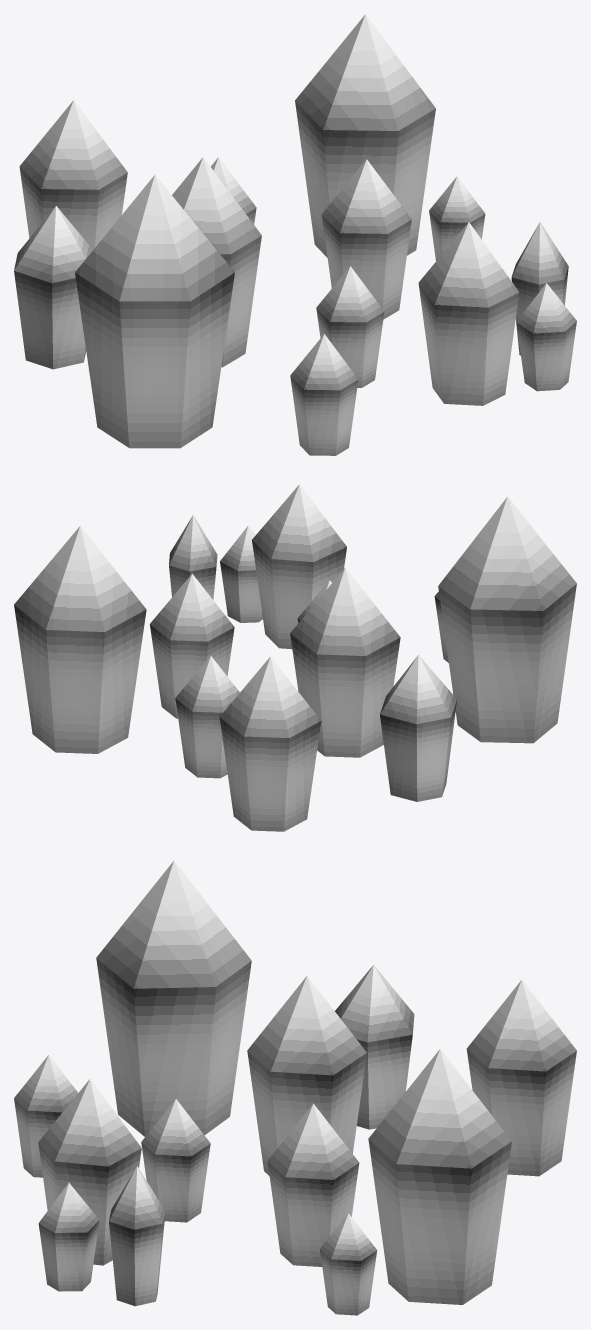
The model's file is crystals.obj.
The picture shows the model from 3 angles, top to bottom: view 1: azimuth 30°, elevation 25°; view 2: azimuth 150°, elevation 25°; view 3: azimuth 270°, elevation 25°; orthographic projection. The views are drawn at different scales.
Visible parts, largest first — view 1: Cube.005_Cube.008, Cube.006_Cube.009, Cube.002_Cube.005, Cube.009_Cube.012, Cube_Cube.001, Cube.008_Cube.011, Cube.004_Cube.007, Cube.012_Cube.015, Cube.011_Cube.014, Cube.001_Cube.004, Cube.003_Cube.006, Cube.007_Cube.010 (+1 smaller); view 2: Cube.005_Cube.008, Cube.006_Cube.009, Cube.004_Cube.007, Cube.009_Cube.012, Cube.002_Cube.005, Cube_Cube.001, Cube.008_Cube.011, Cube.010_Cube.013, Cube.001_Cube.004, Cube.003_Cube.006; view 3: Cube.005_Cube.008, Cube.006_Cube.009, Cube.009_Cube.012, Cube.004_Cube.007, Cube.008_Cube.011, Cube.002_Cube.005, Cube_Cube.001, Cube.003_Cube.006, Cube.011_Cube.014, Cube.001_Cube.004, Cube.007_Cube.010, Cube.012_Cube.015.
Boxes of the visible parts, <box> form: Cube.005_Cube.008: <box>75,175,234,448</box>; Cube.006_Cube.009: <box>295,14,435,257</box>; Cube.002_Cube.005: <box>418,222,519,405</box>; Cube.009_Cube.012: <box>19,100,127,249</box>; Cube_Cube.001: <box>14,206,92,369</box>; Cube.008_Cube.011: <box>321,159,411,319</box>; Cube.004_Cube.007: <box>172,157,261,367</box>; Cube.012_Cube.015: <box>290,334,358,455</box>; Cube.011_Cube.014: <box>316,266,384,387</box>; Cube.001_Cube.004: <box>516,283,576,391</box>; Cube.003_Cube.006: <box>511,222,568,355</box>; Cube.007_Cube.010: <box>429,176,485,260</box>; Cube.005_Cube.008: <box>438,496,576,743</box>; Cube.006_Cube.009: <box>14,526,146,753</box>; Cube.004_Cube.007: <box>290,567,400,757</box>; Cube.009_Cube.012: <box>219,656,321,831</box>; Cube.002_Cube.005: <box>252,484,346,649</box>; Cube_Cube.001: <box>380,655,456,801</box>; Cube.008_Cube.011: <box>150,573,234,718</box>; Cube.010_Cube.013: <box>175,656,239,778</box>; Cube.001_Cube.004: <box>220,525,262,622</box>; Cube.003_Cube.006: <box>169,515,217,599</box>; Cube.005_Cube.008: <box>96,861,251,1136</box>; Cube.006_Cube.009: <box>368,1049,511,1304</box>; Cube.009_Cube.012: <box>466,980,576,1176</box>; Cube.004_Cube.007: <box>247,976,366,1175</box>; Cube.008_Cube.011: <box>267,1103,359,1266</box>; Cube.002_Cube.005: <box>38,1079,141,1265</box>; Cube_Cube.001: <box>335,965,414,1129</box>; Cube.003_Cube.006: <box>109,1166,165,1306</box>; Cube.011_Cube.014: <box>141,1099,210,1222</box>; Cube.001_Cube.004: <box>38,1183,99,1291</box>; Cube.007_Cube.010: <box>320,1213,377,1315</box>; Cube.012_Cube.015: <box>14,1055,77,1177</box>.
Size of the model in its own units: 0.8272 by 0.4235 by 0.8461.
